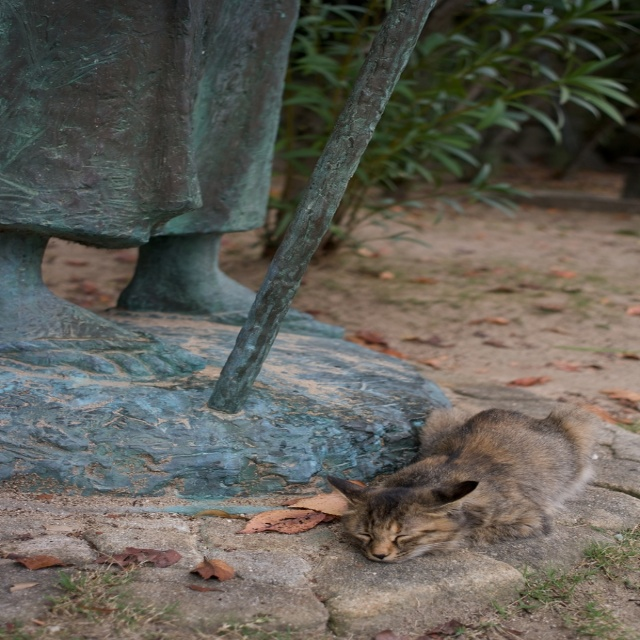Lynx: (326, 405, 598, 558)
